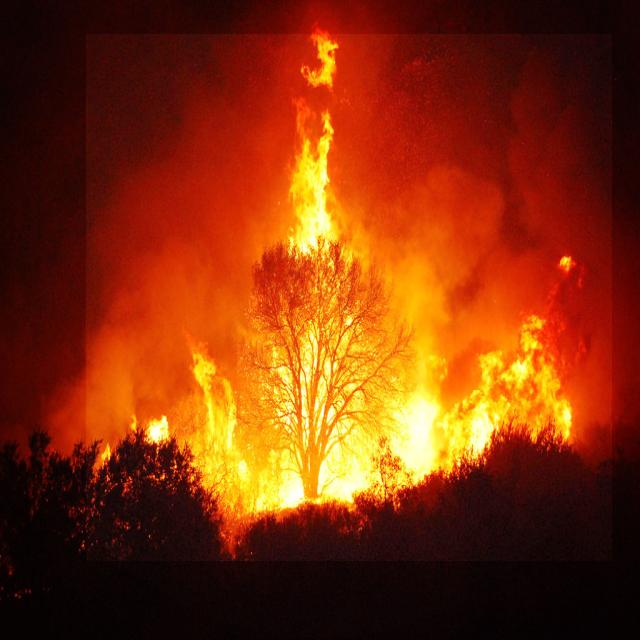Fire: (86, 34, 612, 561)
